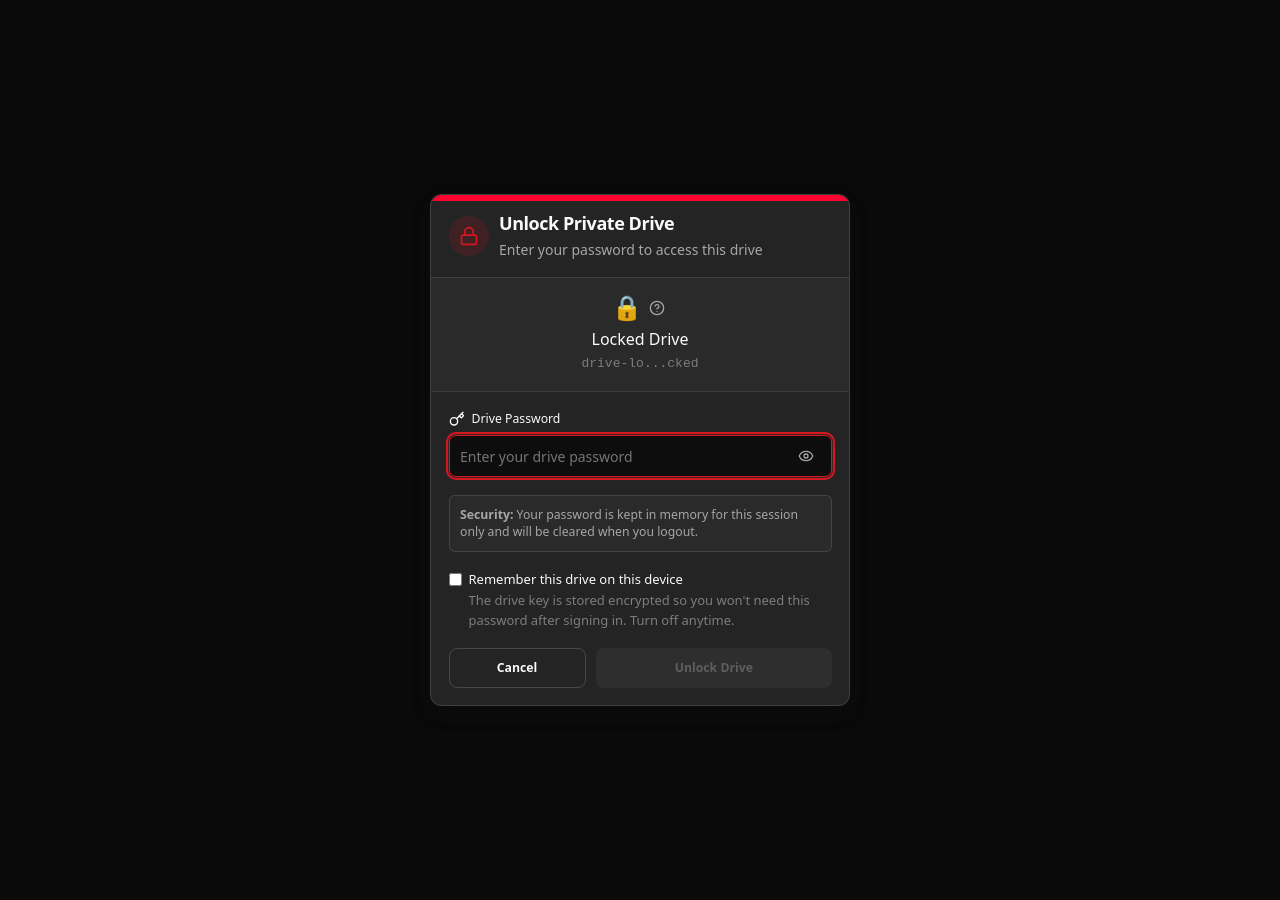
Test: PrivateDriveUnlockModal error display (UX-3) › shows the SPECIFIC network/gateway error, not a hardcoded wrong-password message
Type "typed-password" into the password field with placeholder "Enter your drive password" at (640, 456), box [448, 435, 832, 477]
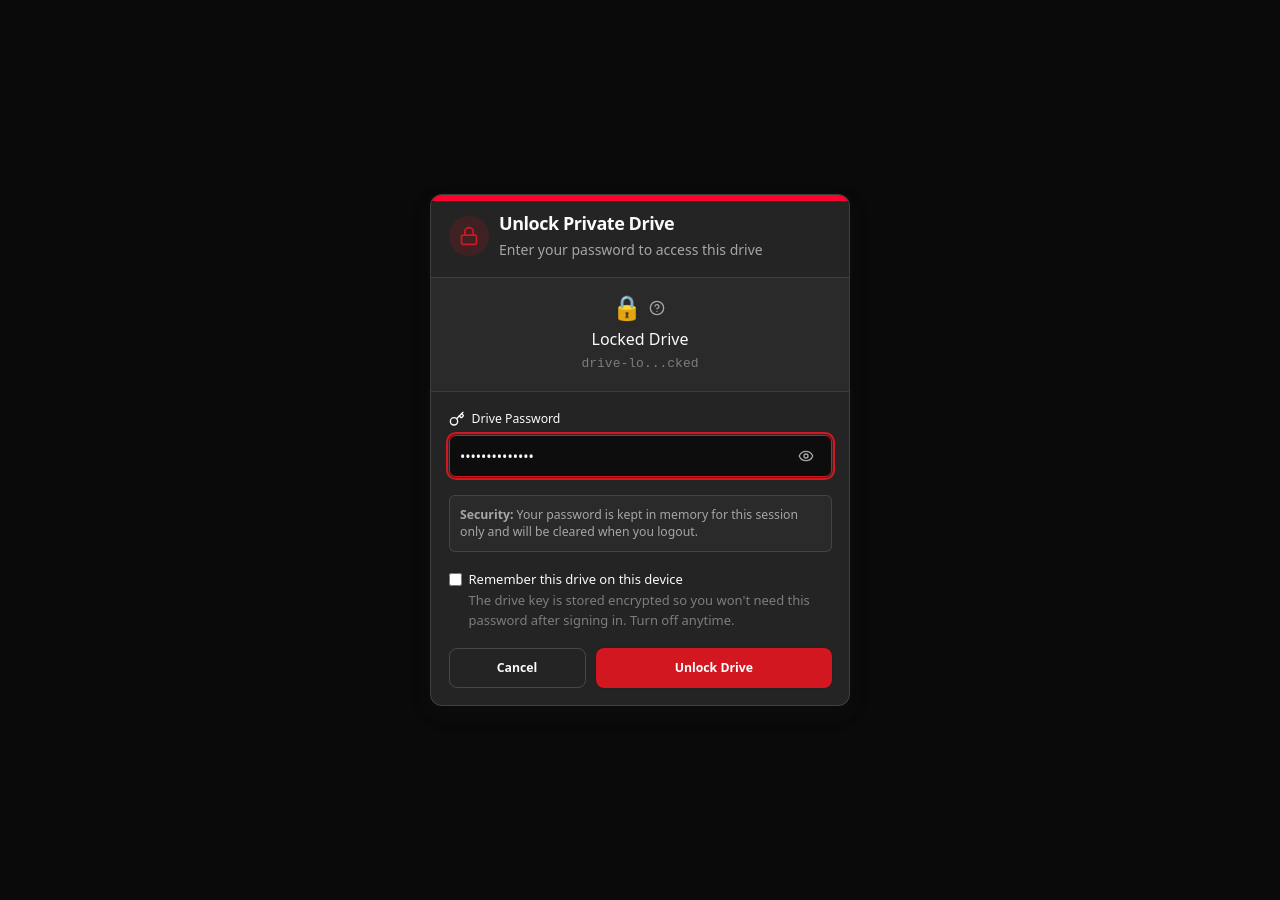
Click the button "Unlock Drive" at (714, 668), box [596, 648, 832, 688]
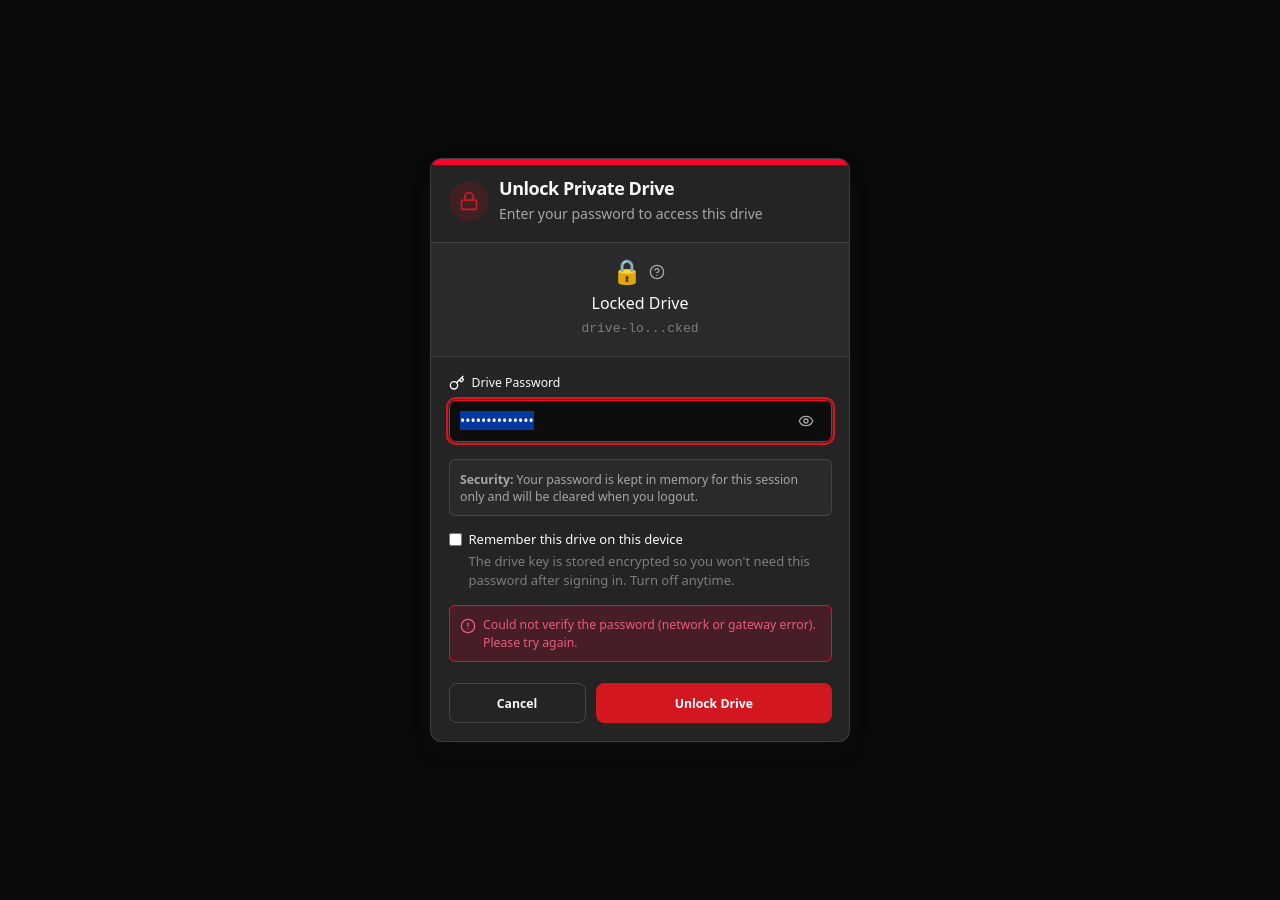
Result: the text "Could not verify the password (network or gateway error). Please try again." is shown at [448, 605, 832, 662]
